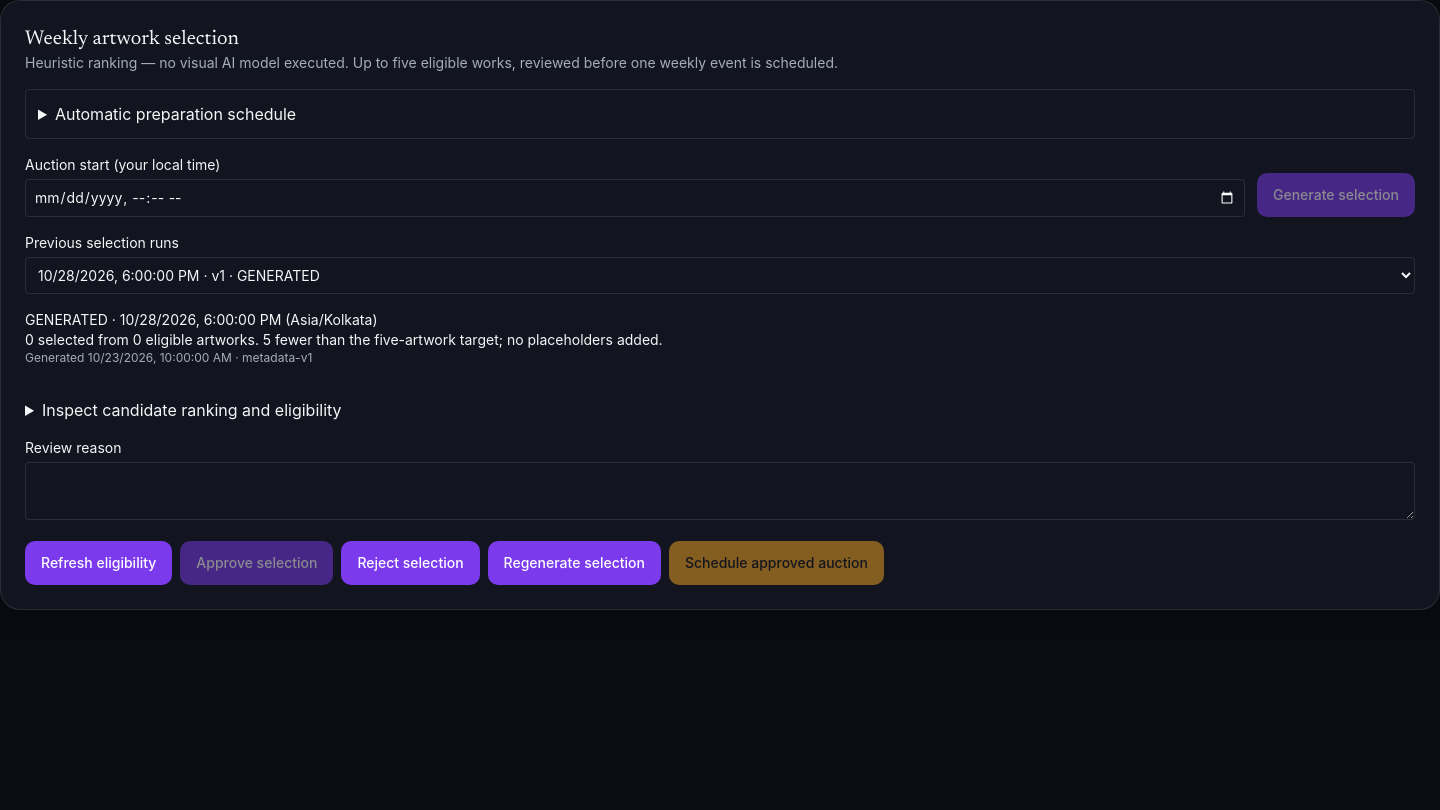
Test case: admin weekly selection review › does not manufacture candidates for an empty eligible pool
Expected: the text "0 selected from 0 eligible" is shown, [25,331,663,348]
Expected: the button "Approve selection" is disabled, [180,541,333,585]
Click the button "Refresh eligibility" at (99, 563), box [25,541,172,585]
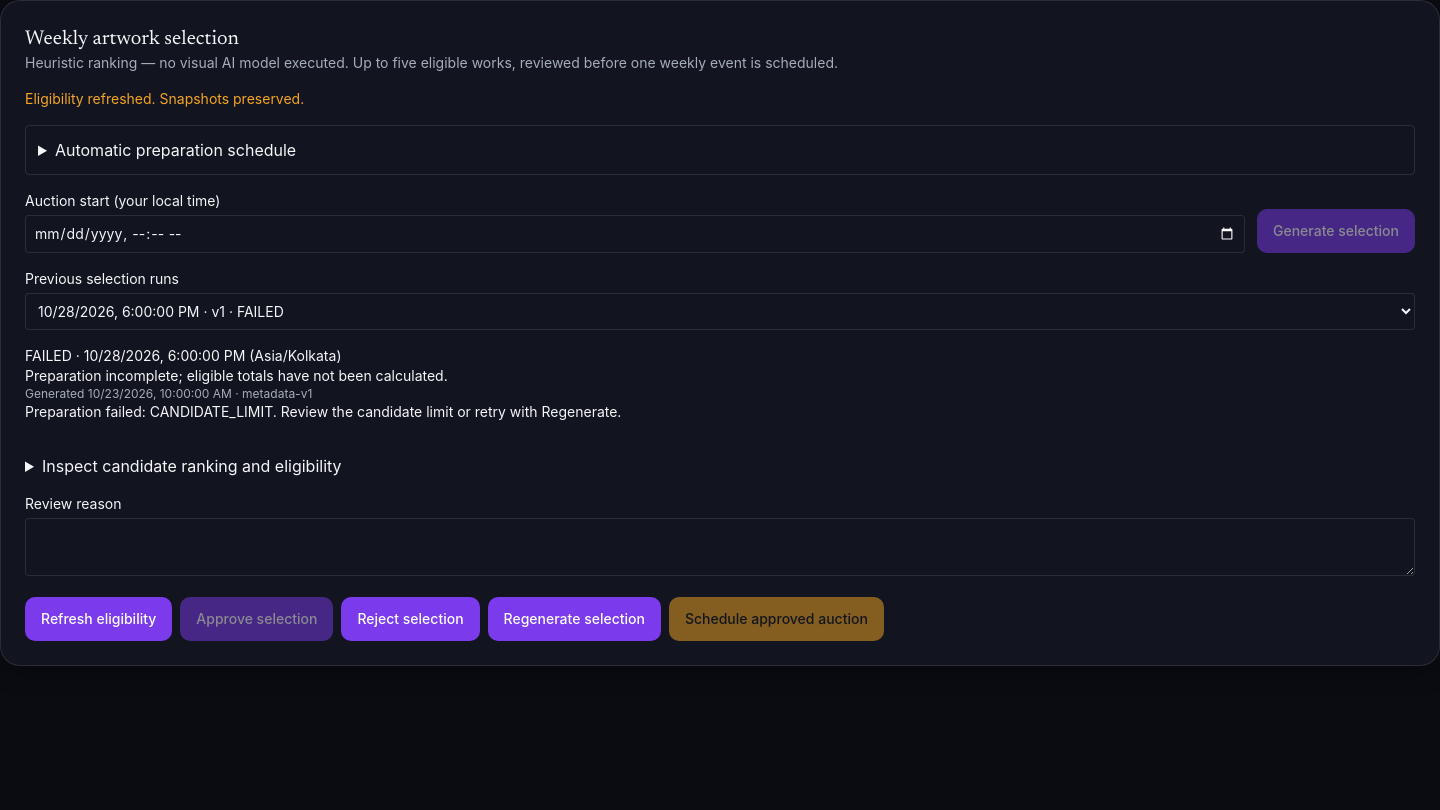
Expected: the text "Preparation incomplete; eligible totals" is shown, [25,367,448,384]
Expected: the text "0 selected from 0 eligible" is gone
